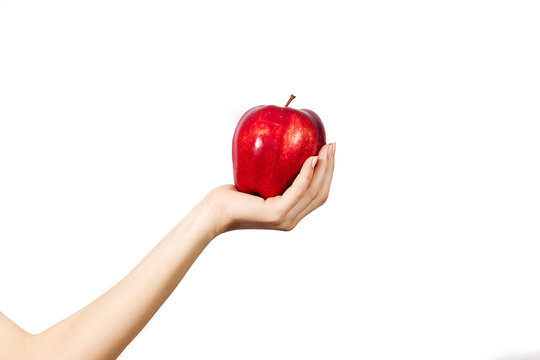apple: (230, 93, 327, 200)
